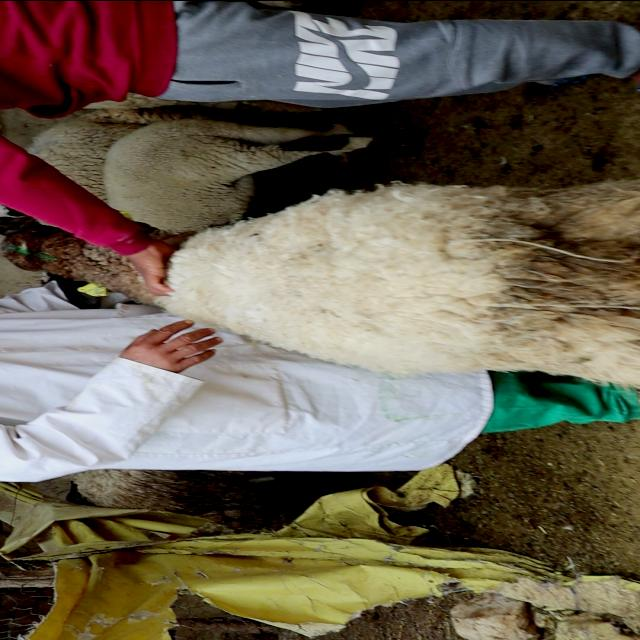Score_2: (0, 180, 639, 386)
